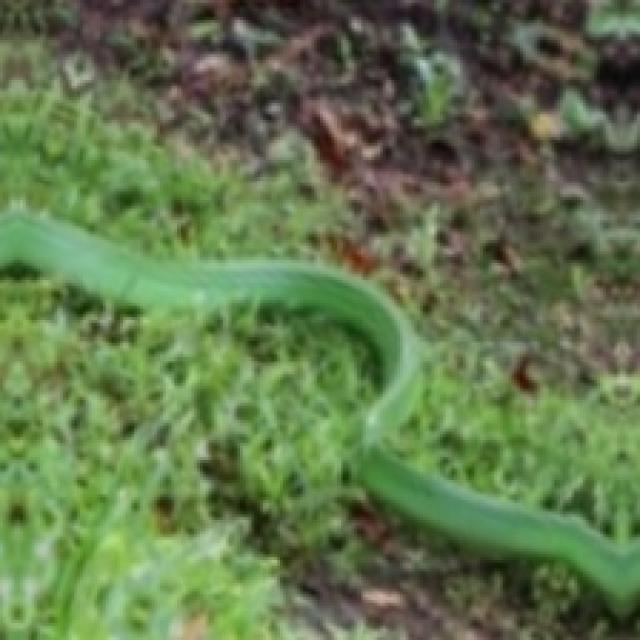red-tailed green ratsnake: (0, 209, 637, 614)
